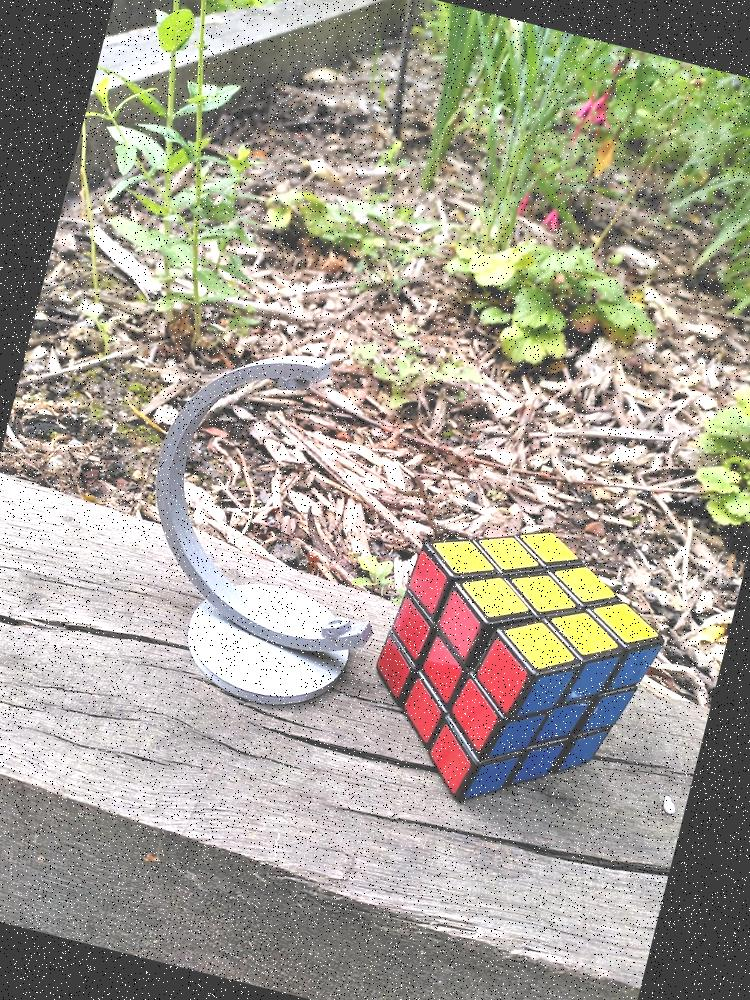rubiks_cube: (376, 532, 658, 798)
